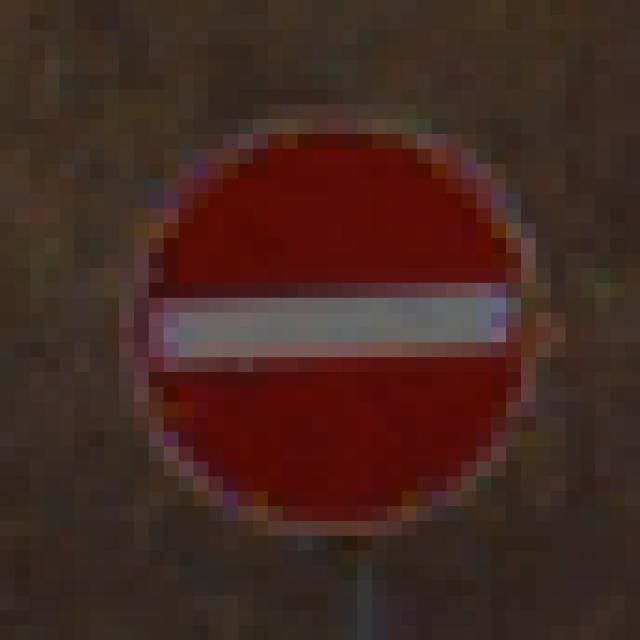No Entry: (90, 76, 567, 567)
